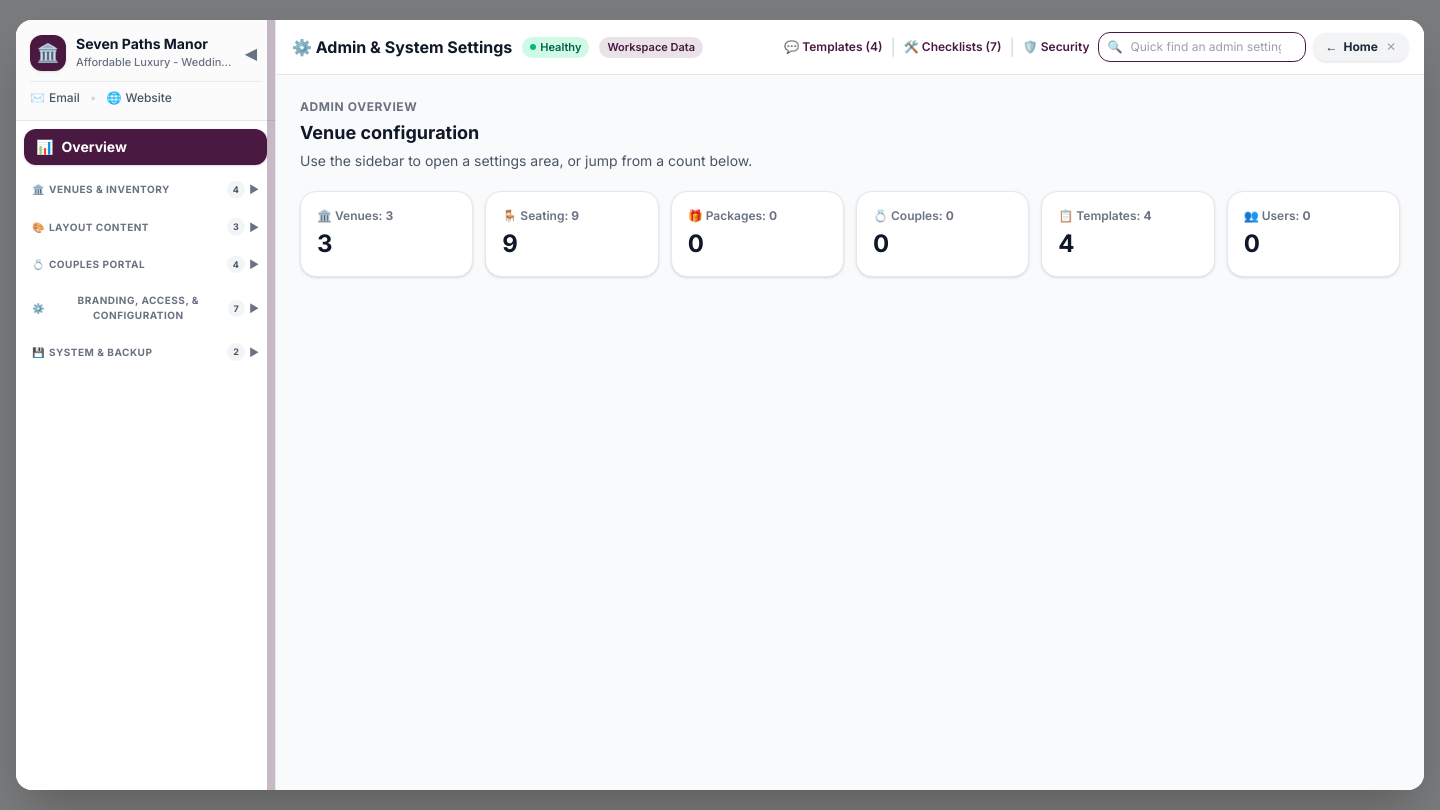
Test: AdminPanel Tables/Seating tab › shows separate Table Types and Seating Types sections
The image size is (1440, 810).
Click the button "🏛️ Venues & Inventory 4 ▶" at [146, 190], box x1=24 y1=177 x2=267 y2=202
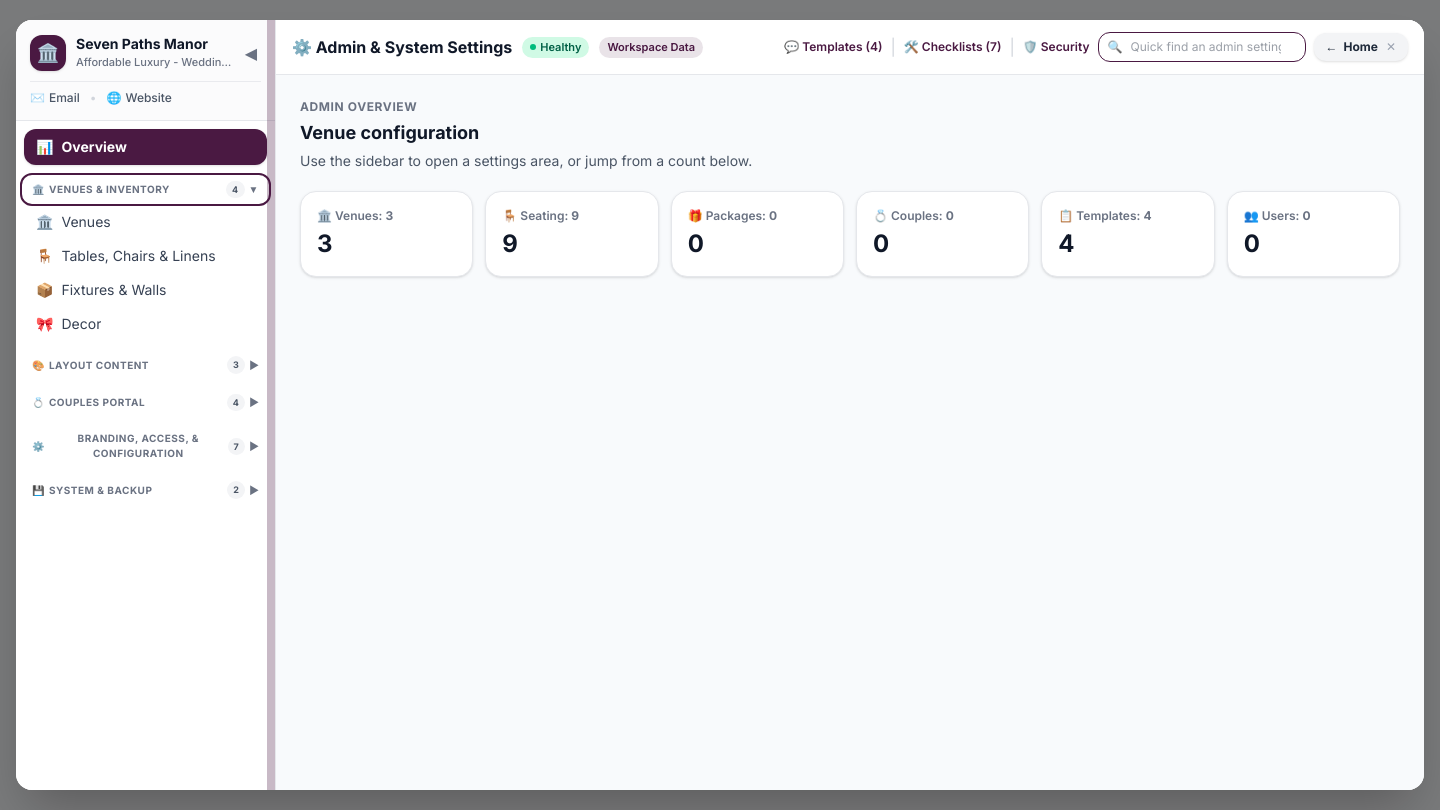
The merged "Tables, Chairs & Linens" tab opens the Tables/Seating sub-editor by default.
Click the button "🪑 Tables, Chairs & Linens" at [146, 256], box x1=24 y1=240 x2=267 y2=272
(page scrolled)
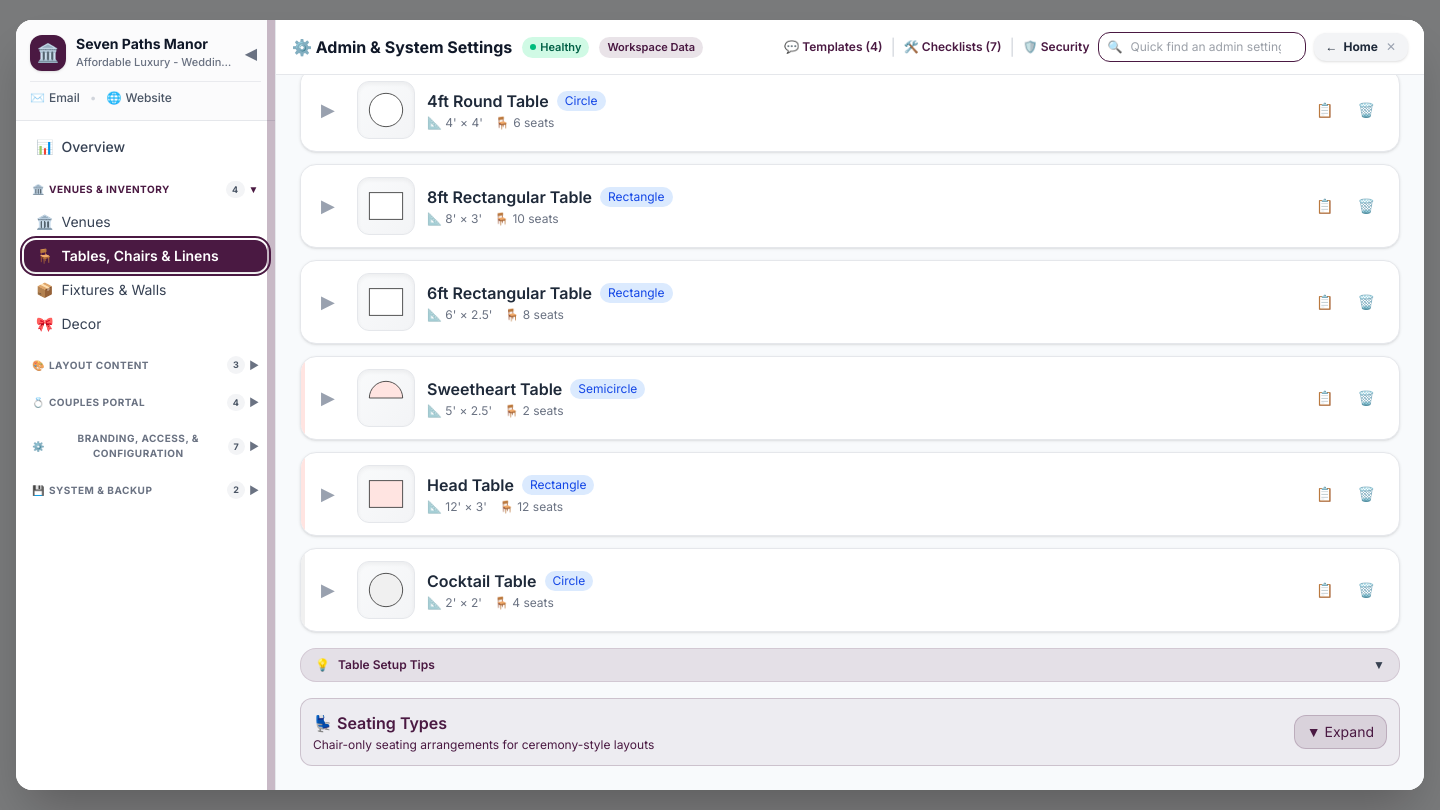
Expected: the text "💺 Seating Types" is shown, x1=313 y1=713 x2=447 y2=733
